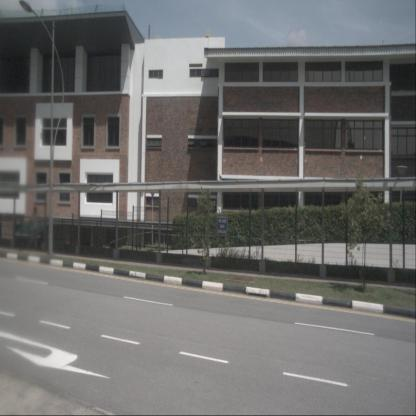human-pedestrian-adult: (27, 206, 39, 250)
